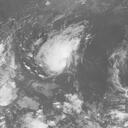cyclone: (32, 18, 91, 79)
